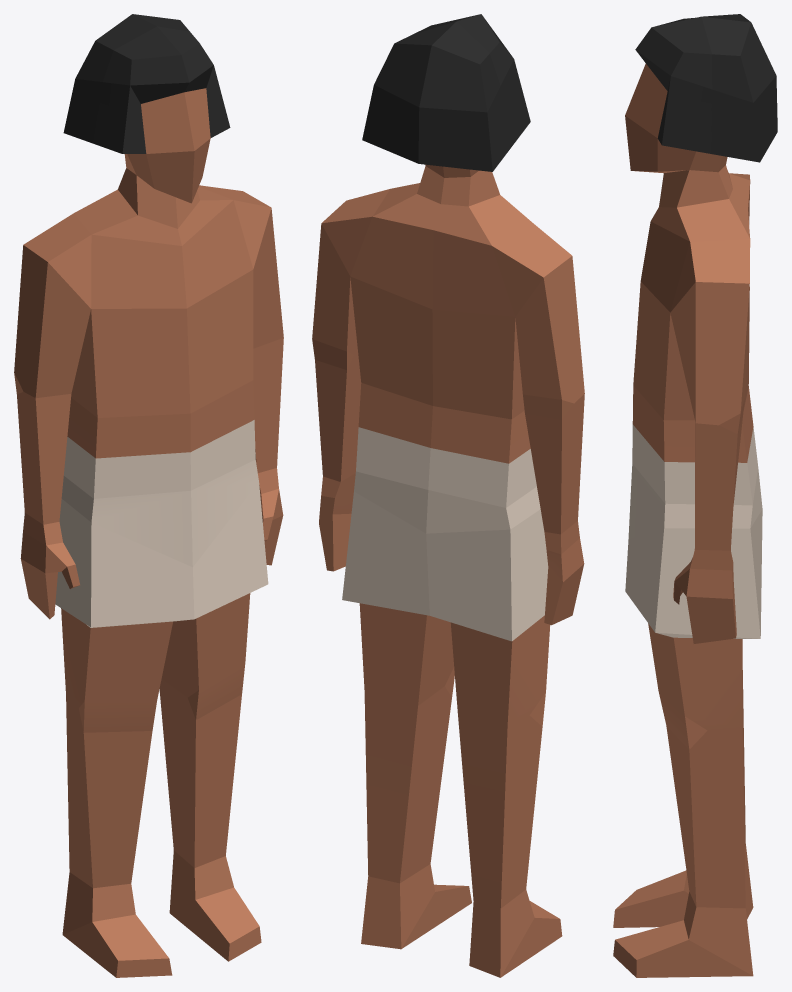
Rendered from people_man-egypt-worker.fbx.
The picture shows the model from 3 angles, left to right: view 1: azimuth 30°, elevation 25°; view 2: azimuth 150°, elevation 25°; view 3: azimuth 270°, elevation 25°; orthographic projection.
Parts seen in each view (by area): view 1: people_man_egypt_worker; view 2: people_man_egypt_worker; view 3: people_man_egypt_worker.
Boxes of the visible parts, bbox=[...] form: people_man_egypt_worker: bbox=[14, 14, 283, 977]; people_man_egypt_worker: bbox=[312, 14, 584, 977]; people_man_egypt_worker: bbox=[613, 14, 777, 977].
Size of the model in its own units: 57.39 by 200 by 32.24.
